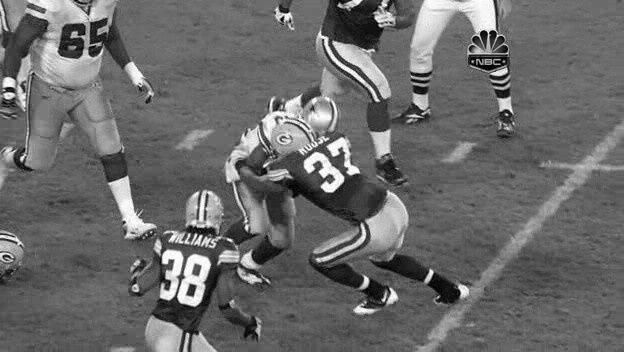person: (303, 97, 339, 143), (302, 97, 338, 143), (304, 97, 340, 143), (303, 96, 339, 142), (303, 98, 339, 144)
target_negative: (296, 61, 589, 205), (278, 119, 530, 211), (31, 162, 93, 228), (296, 227, 315, 312), (534, 289, 567, 324), (384, 331, 494, 333)
